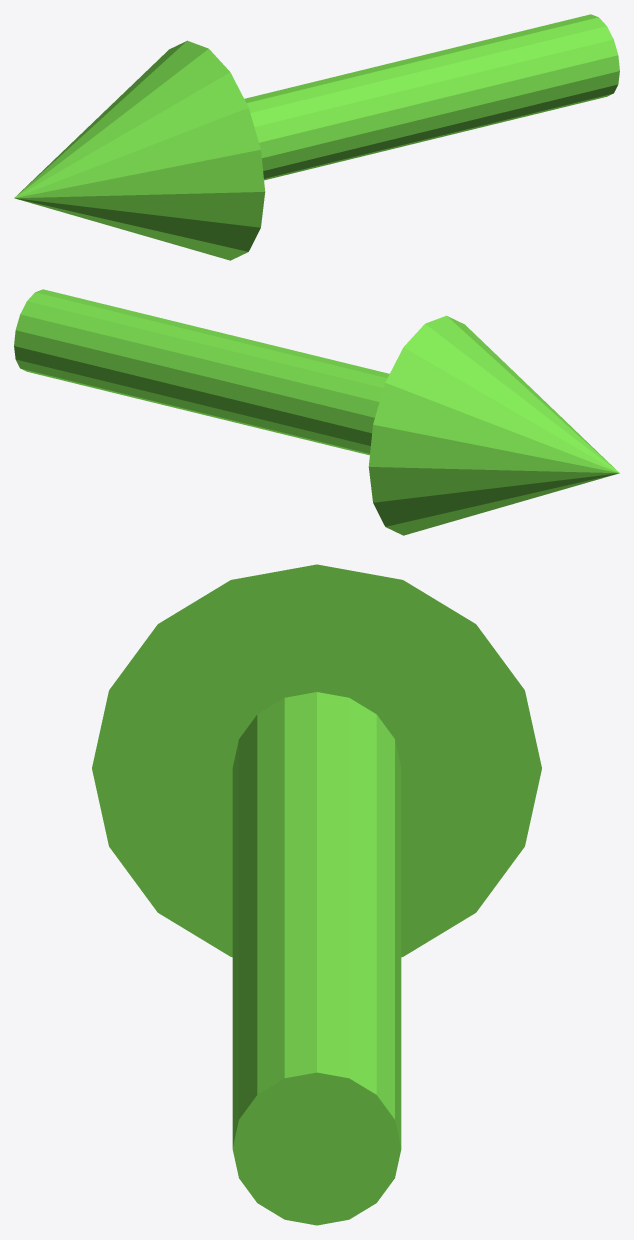
File: gizmo_translate.glb
3 views of the same model, one above another, from view 1: azimuth 30°, elevation 25°; view 2: azimuth 150°, elevation 25°; view 3: azimuth 270°, elevation 25° (orthographic). The views are drawn at different scales.
Parts seen in each view (by area): view 1: 0.078; view 2: 0.078; view 3: 0.078.
Boxes of the visible parts, x1,y1,x2,y2 form: 0.078: [14, 14, 619, 260]; 0.078: [14, 289, 619, 535]; 0.078: [92, 564, 541, 1225].
Bounding box in the file's own units: 0.3 × 0.1 × 0.1.
